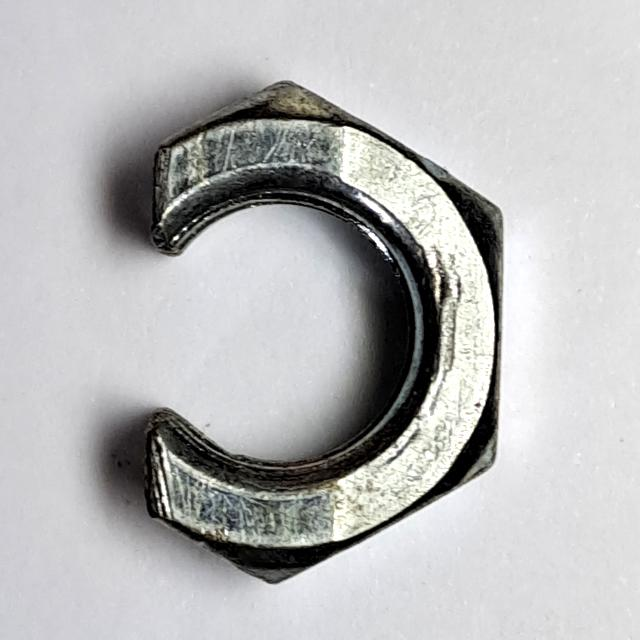Fracture: (130, 68, 517, 599)
